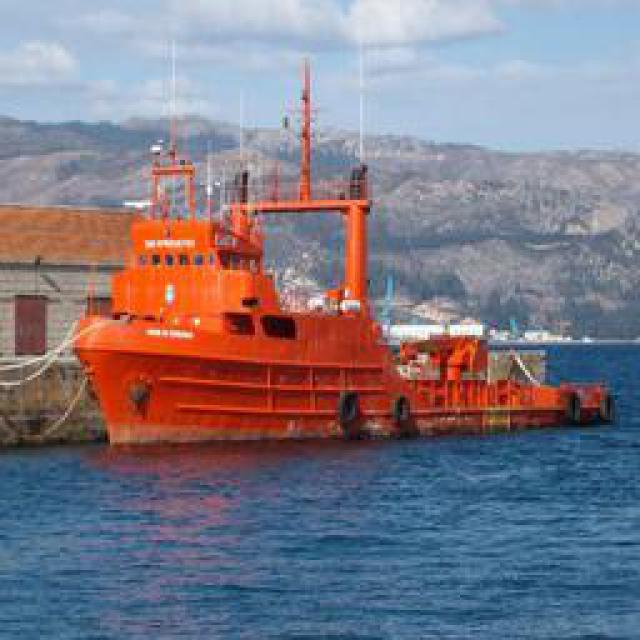Ship: (70, 110, 523, 438)
